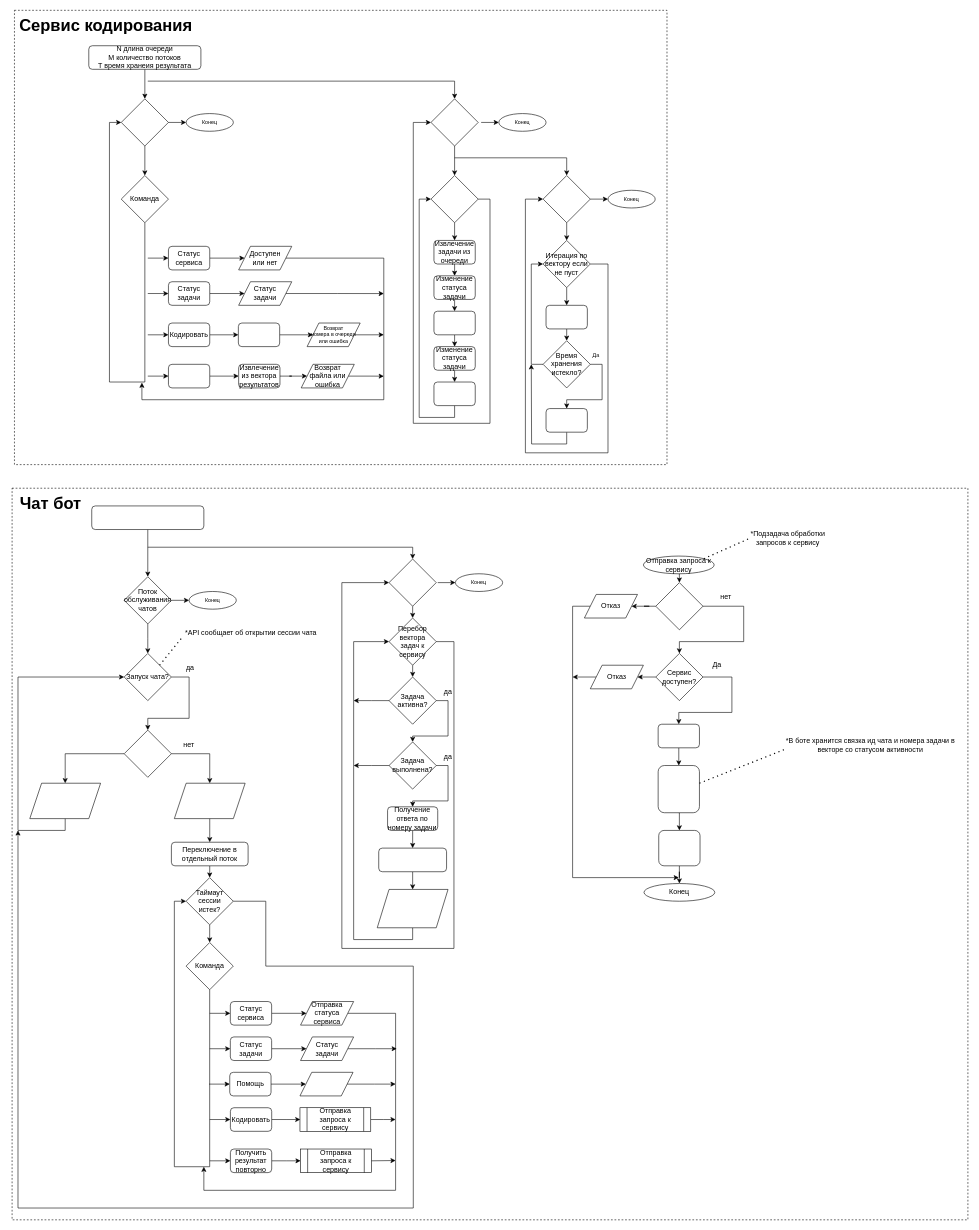
This 979x1230 diagram has some shape labels left out. The centre of each missing label's shape, as x and y in pixels:
Взятие элемента вектора: pixel 566 317
Добавление в вектор результатов: pixel 454 393
Добавление задачи: pixel 259 334
Изменение статуса активности задачи: pixel 412 860
Кодирование: pixel 454 323
Кол-во чатов не превышено?: pixel 147 753
Максимальное количество чатов: pixel 147 517
Отправка данных сервису: pixel 678 736
Отправка приветствия: pixel 209 801
Отправка приветствия с отказом: pixel 65 801
Отправка справки по командам: pixel 326 1084
Отсылка результата в чат: pixel 412 908
Очередь не пуста?: pixel 454 199
Получение и сохранение номера в очереди: pixel 678 789
Получить результат: pixel 189 376
Поток обработки команд: pixel 144 122
Поток обработки ответов сервиса: pixel 412 582
Поток обработки очереди кодирования: pixel 454 122
Поток очистки выходного вектора: pixel 566 199
У пользователя есть активная задача?: pixel 679 606
Удаление элемента: pixel 566 420
Установка флага активной задачи: pixel 679 848
